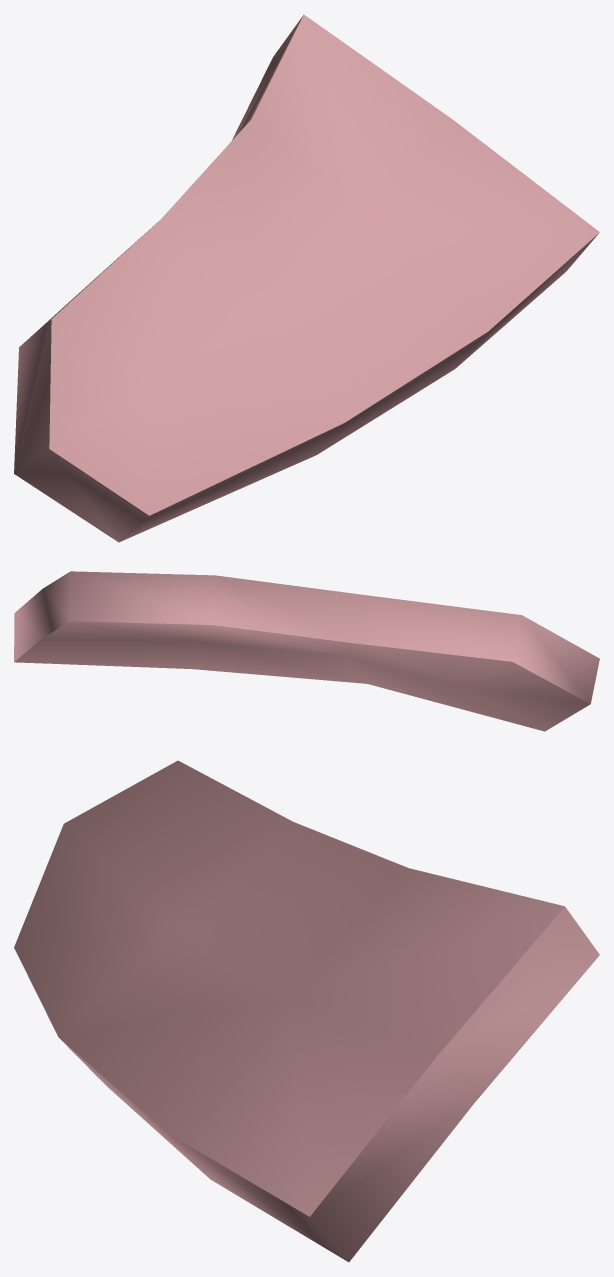
3 renders of one model, top to bottom at view 1: azimuth 30°, elevation 25°; view 2: azimuth 150°, elevation 25°; view 3: azimuth 270°, elevation 25°, orthographic. The views are drawn at different scales.
Visible parts, largest first — view 1: ZA_3525f8281db09ef4; view 2: ZA_3525f8281db09ef4; view 3: ZA_3525f8281db09ef4.
Part boxes in pixels (left/top/right/bottom): ZA_3525f8281db09ef4: left=14, top=14, right=599, bottom=542; ZA_3525f8281db09ef4: left=14, top=571, right=599, bottom=731; ZA_3525f8281db09ef4: left=14, top=760, right=599, bottom=1262.
Size of the model in its own units: 0.0353 by 0.0136 by 0.0234.
